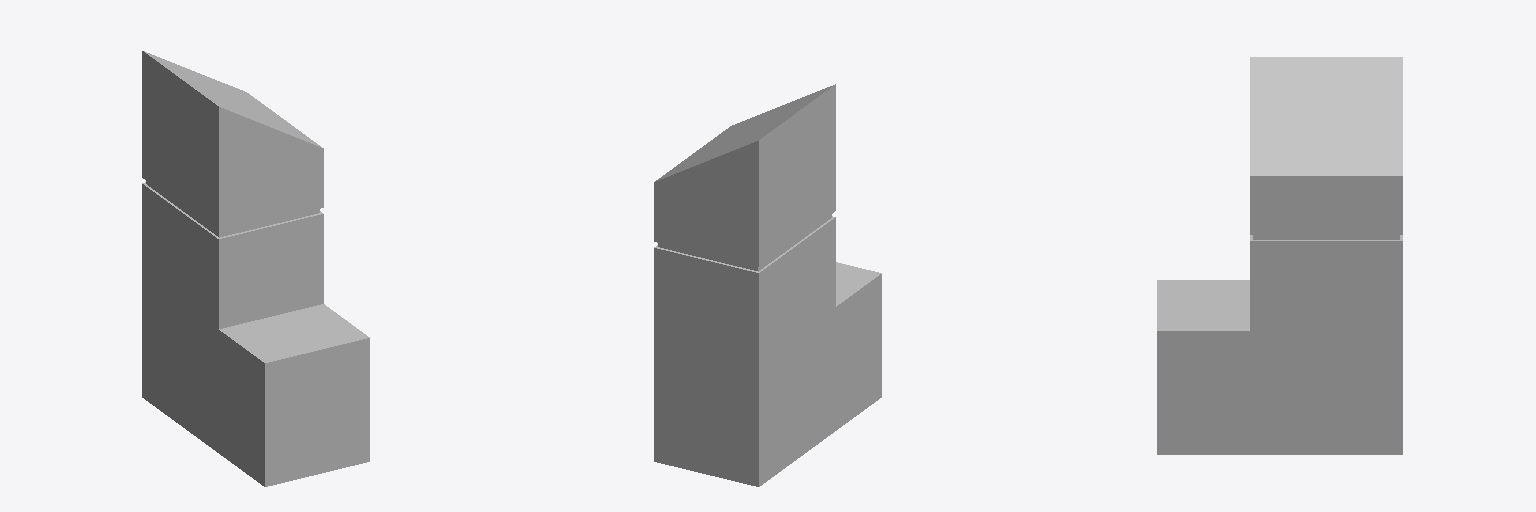
Rendered from building_1.obj.
The picture shows the model from 3 angles: view 1: azimuth 30°, elevation 25°; view 2: azimuth 150°, elevation 25°; view 3: azimuth 270°, elevation 25°; orthographic projection.
Parts seen in each view (by area): view 1: 立方体; view 2: 立方体; view 3: 立方体.
Boxes of the visible parts, box(x1,y1,x2,y2) form: 立方体: box(142, 51, 369, 486); 立方体: box(654, 84, 881, 486); 立方体: box(1157, 57, 1402, 454).
Bounding box in the file's own units: 3.93 × 12.39 × 7.96.